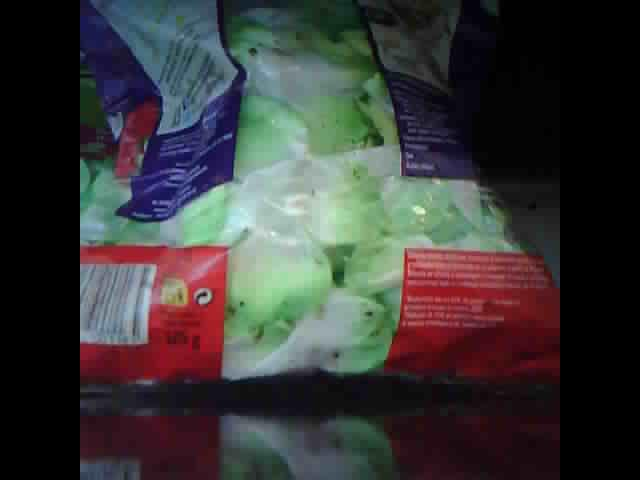florette: (82, 4, 559, 392)
